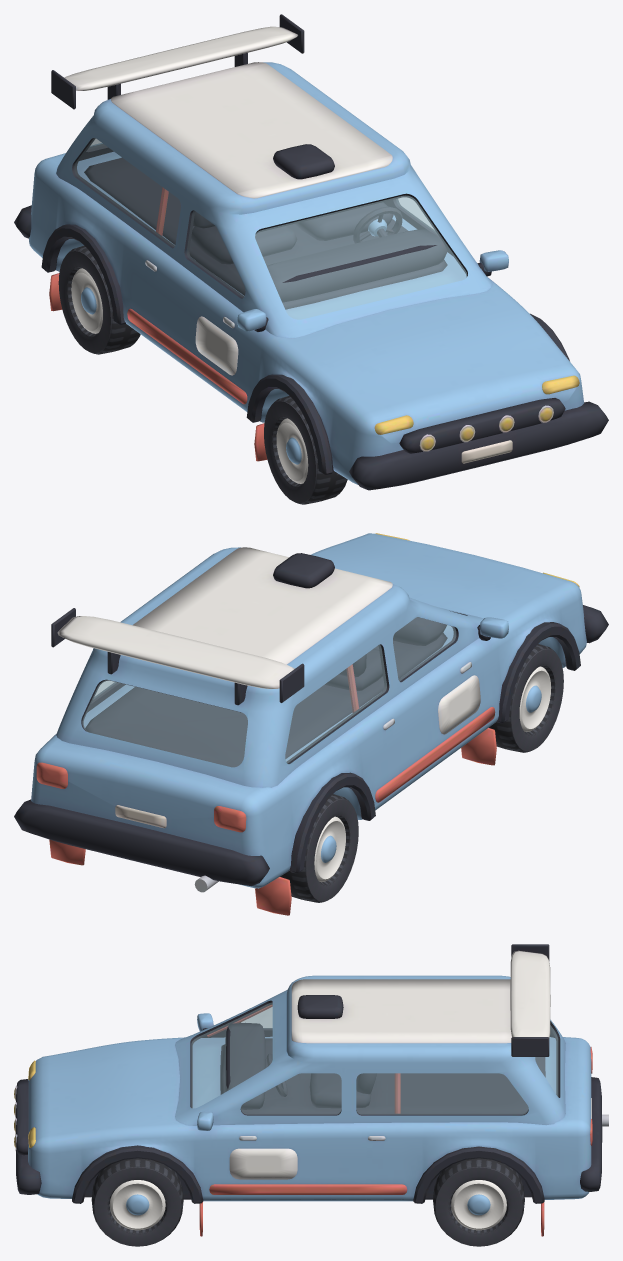
The model's file is rally.glb.
3 renders of one model, top to bottom at view 1: azimuth 30°, elevation 25°; view 2: azimuth 150°, elevation 25°; view 3: azimuth 270°, elevation 25°, orthographic. The views are drawn at different scales.
Parts seen in each view (by area): view 1: rally-car_body, rally-car_windows, rally-car_wheel_fr, rally-car_wheel_rr; view 2: rally-car_body, rally-car_windows, rally-car_wheel_rr, rally-car_wheel_fr; view 3: rally-car_body, rally-car_windows, rally-car_wheel_fl, rally-car_wheel_rl.
Part boxes in pixels (x1,y1,x2,y2): rally-car_body: (14,14,608,490); rally-car_windows: (74,138,466,319); rally-car_wheel_fr: (264,396,347,504); rally-car_wheel_rr: (58,245,140,354); rally-car_body: (14,533,608,915); rally-car_windows: (82,617,455,766); rally-car_wheel_rr: (280,794,358,902); rally-car_wheel_fr: (489,644,563,752); rally-car_body: (14,944,608,1236); rally-car_windows: (191,1003,557,1114); rally-car_wheel_fl: (91,1158,183,1246); rally-car_wheel_rl: (433,1158,524,1246).
Size of the model in its own units: 1.9 by 1.69 by 4.39.
Materials: 18 (5 with a texture image).
